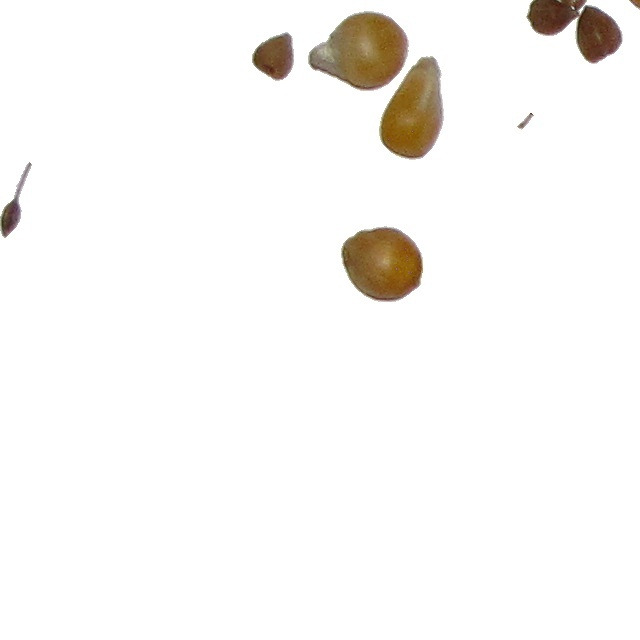buckwheat: (574, 4, 624, 65), (251, 31, 295, 82)
mais: (307, 10, 410, 92), (378, 55, 445, 161), (340, 225, 424, 303)
other: (516, 112, 535, 131)
